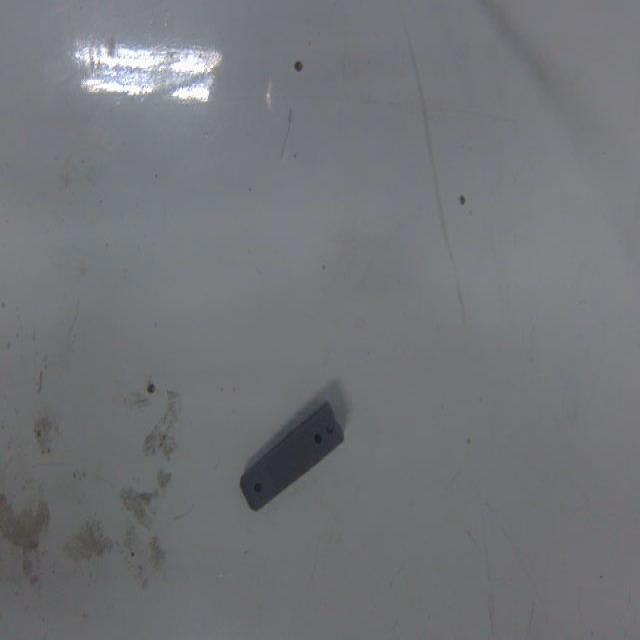grey: (240, 397, 345, 510)
head: (251, 479, 266, 495)
